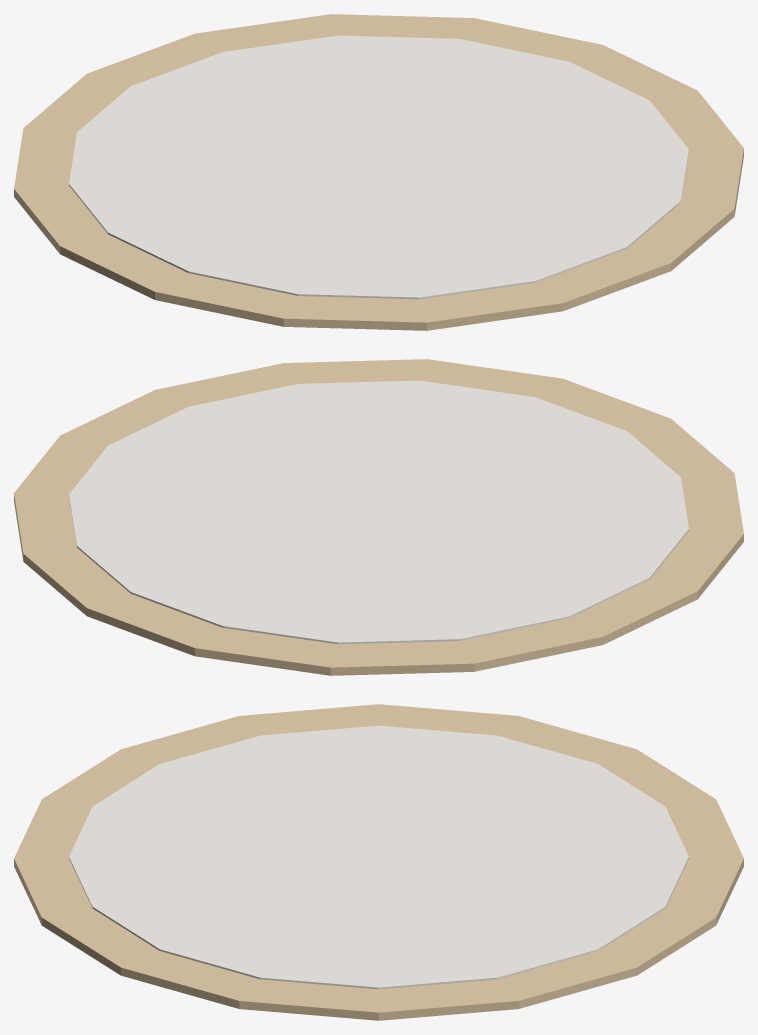
File: rug_round_plain.glb
3 views of the same model, one above another, from view 1: azimuth 30°, elevation 25°; view 2: azimuth 150°, elevation 25°; view 3: azimuth 270°, elevation 25° (orthographic).
Visible parts, largest first — view 1: rug_round_plain; view 2: rug_round_plain; view 3: rug_round_plain.
Part boxes in pixels (x1=…): rug_round_plain: x1=14, y1=14, x2=743, y2=330; rug_round_plain: x1=14, y1=359, x2=743, y2=675; rug_round_plain: x1=14, y1=704, x2=743, y2=1020.
Size of the model in its own units: 1.46 by 0.022 by 1.46.
